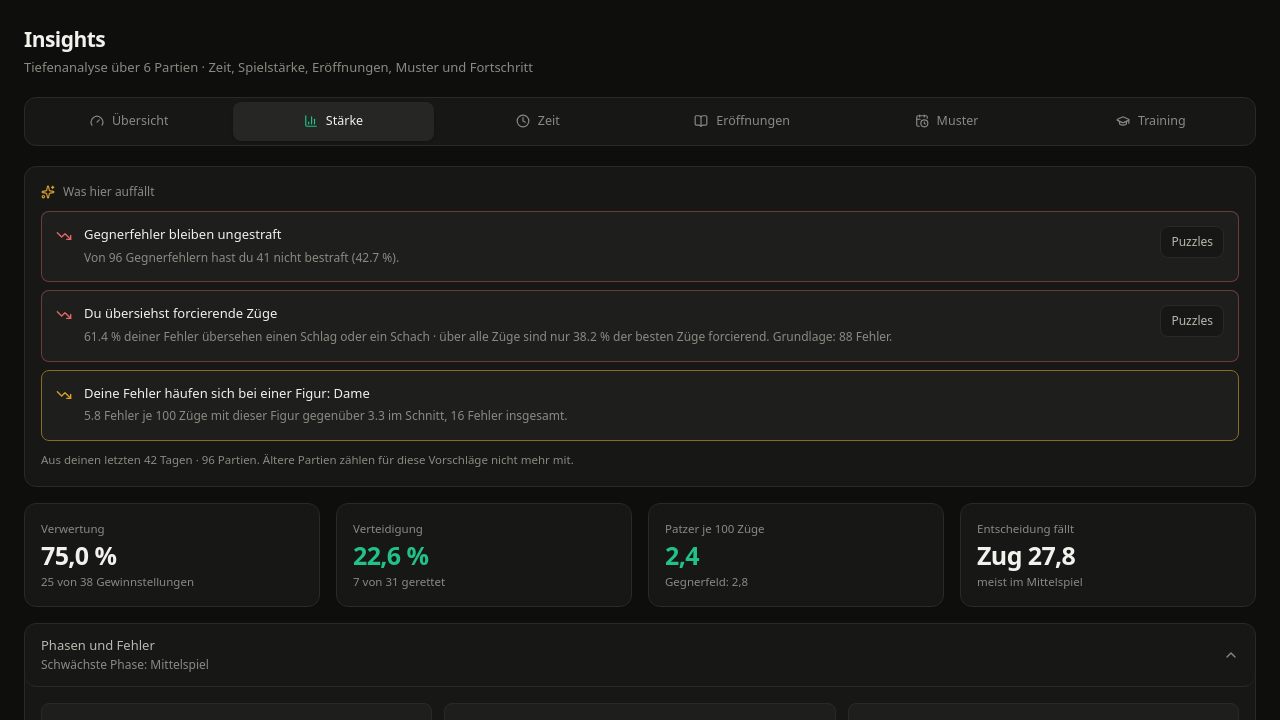
Scenario: deep Insights › splits repertoire deviations by who left the book first
Expected: the text "Tiefenanalyse über 6 Partien" is shown, [24,58,533,76]
Click the button "Eröffnungen".
click(742, 121)  # box [642,102,842,141]
(page scrolled)
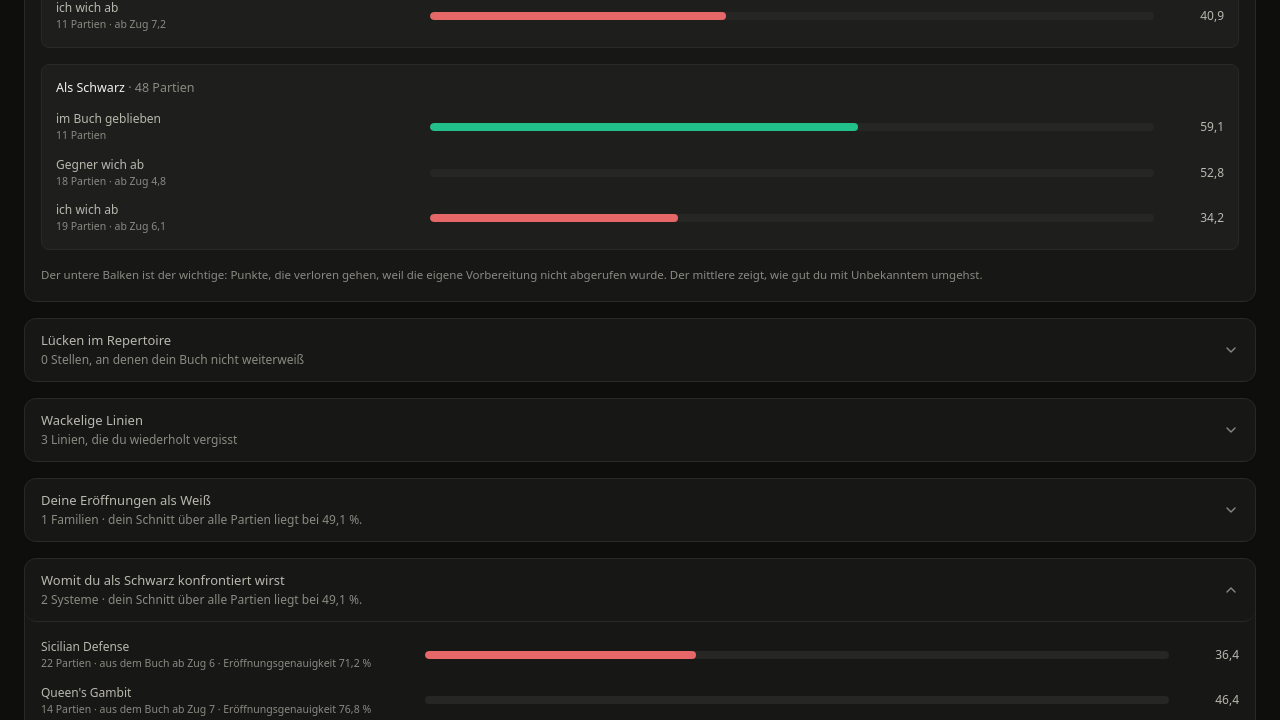
Expected: the heading "Wackelige Linien" is shown, [41,411,143,429]
Expected: the text "0 Stellen, an denen dein Buch nicht weiterweiß" is shown, [41,352,304,369]
